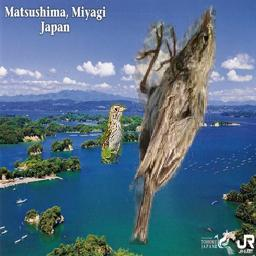Sparrow: (130, 5, 217, 245), (102, 102, 127, 165)
